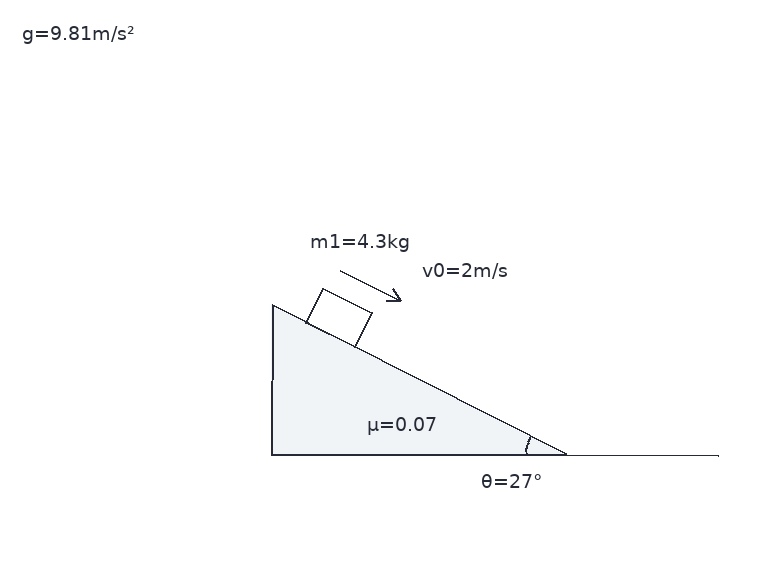block: (304, 286, 373, 349)
ramp: (269, 303, 568, 457)
